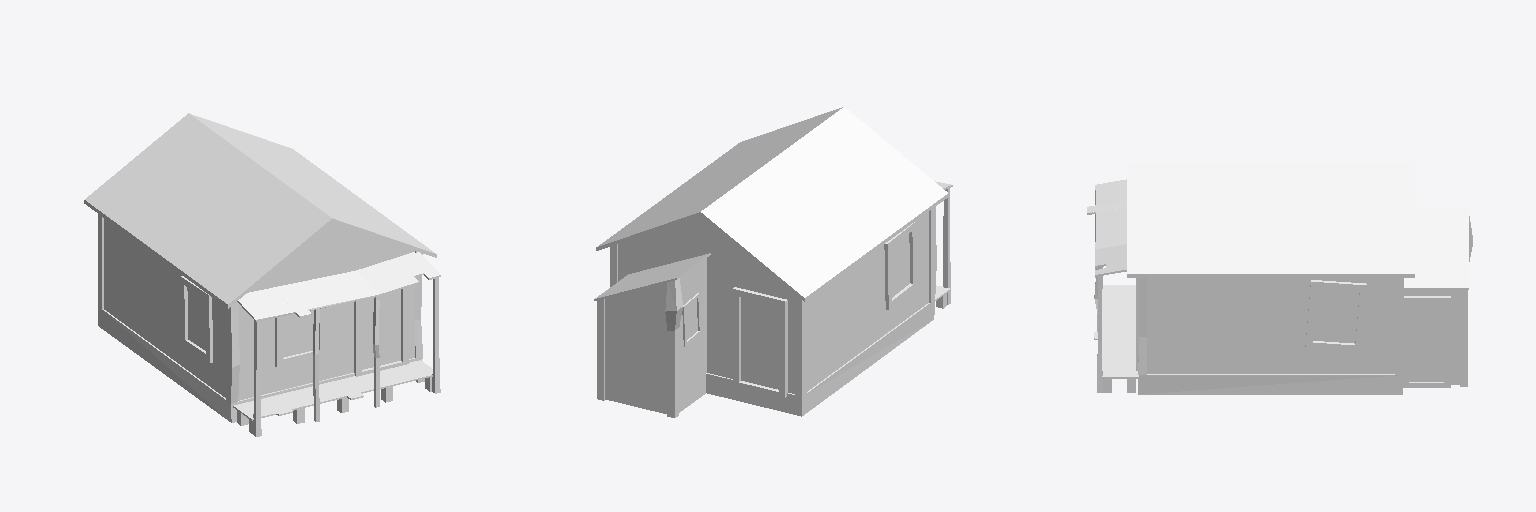
The model's file is BG_House_2.obj.
The picture shows the model from 3 angles: view 1: azimuth 30°, elevation 25°; view 2: azimuth 150°, elevation 25°; view 3: azimuth 270°, elevation 25°; orthographic projection.
Parts seen in each view (by area): view 1: House_Standard_03; view 2: House_Standard_03; view 3: House_Standard_03.
Boxes of the visible parts, x1,y1,x2,y2 form: House_Standard_03: [84, 113, 440, 436]; House_Standard_03: [594, 107, 952, 417]; House_Standard_03: [1087, 163, 1472, 394].
Bounding box in the file's own units: 55.23 × 47.35 × 88.52.